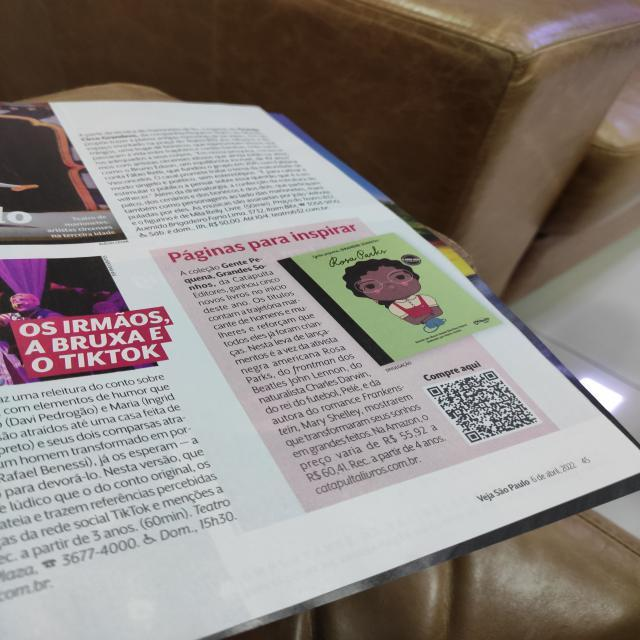qrcode: (428, 371, 539, 444)
